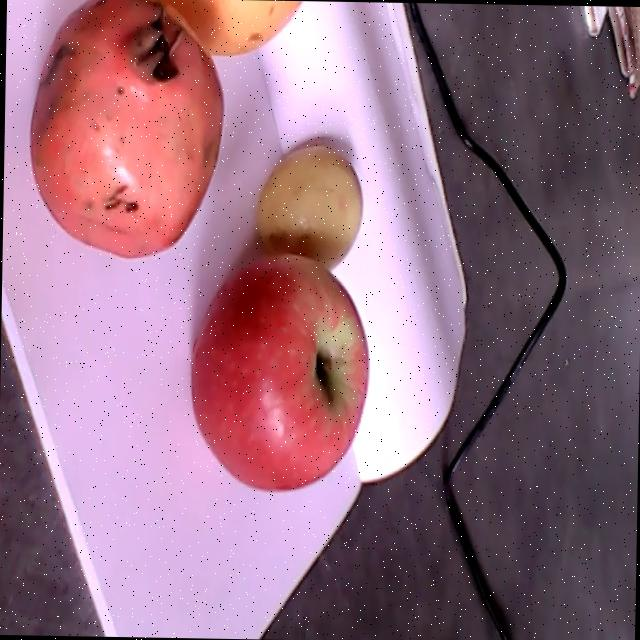apple: (189, 251, 368, 489)
lemon: (254, 144, 361, 269), (169, 0, 301, 56)
pomegranate: (28, 0, 220, 256)
